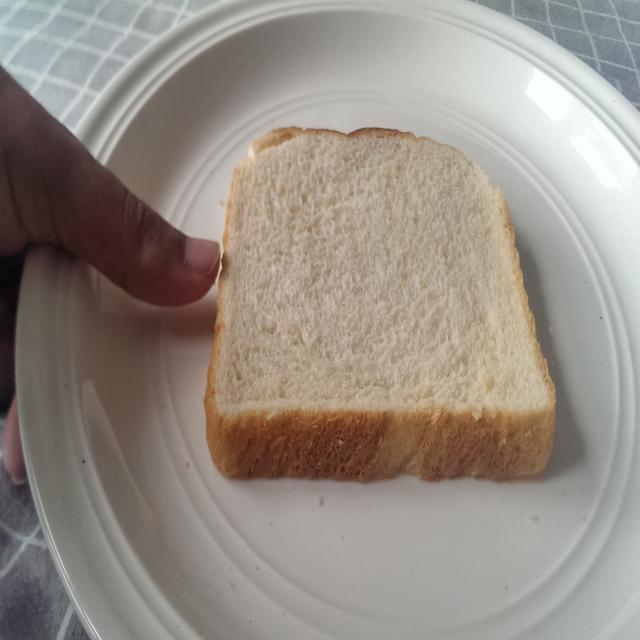bread: (204, 114, 567, 550)
